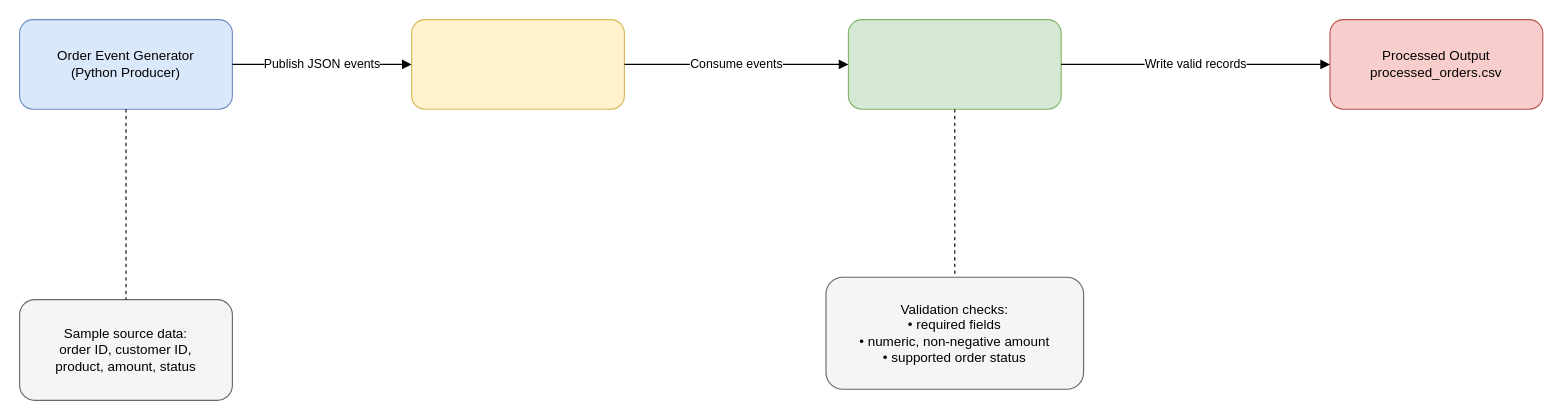
The diagram is 1562 pixels wide and 420 high, and some of its shapes have lost their labels. The shapes that lost their labels are listed below. From the top down, each one's centre as x and y in pixels, then its label:
At point 517,63: "Apache Kafka Topic: orders".
At point 954,63: "Consumer + Validation (Python)".
